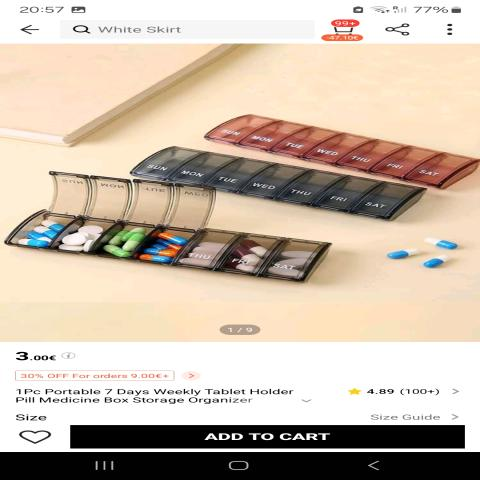PillBox: (120, 140, 442, 230)
